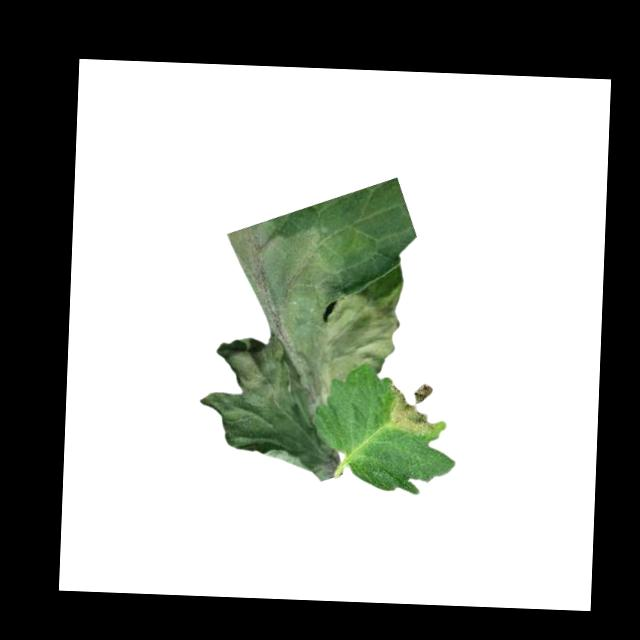Late_blight: (197, 221, 405, 481), (383, 381, 440, 436)
